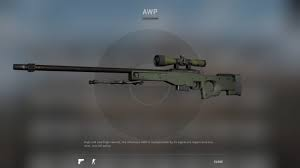gun: (9, 51, 242, 100)
